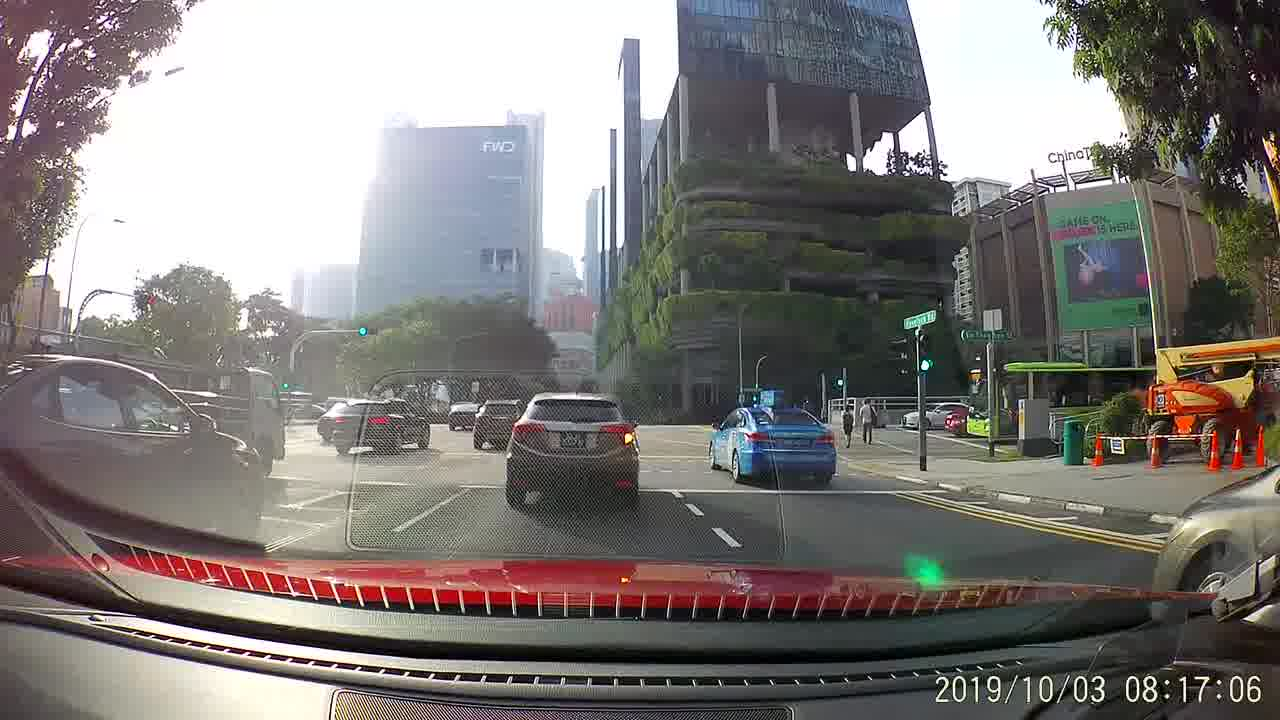bus: (970, 362, 1159, 444)
car: (1, 353, 267, 549), (1163, 439, 1279, 592), (508, 390, 640, 507), (705, 398, 837, 488), (330, 396, 431, 456), (893, 396, 972, 435), (473, 394, 524, 452), (447, 401, 483, 429)
